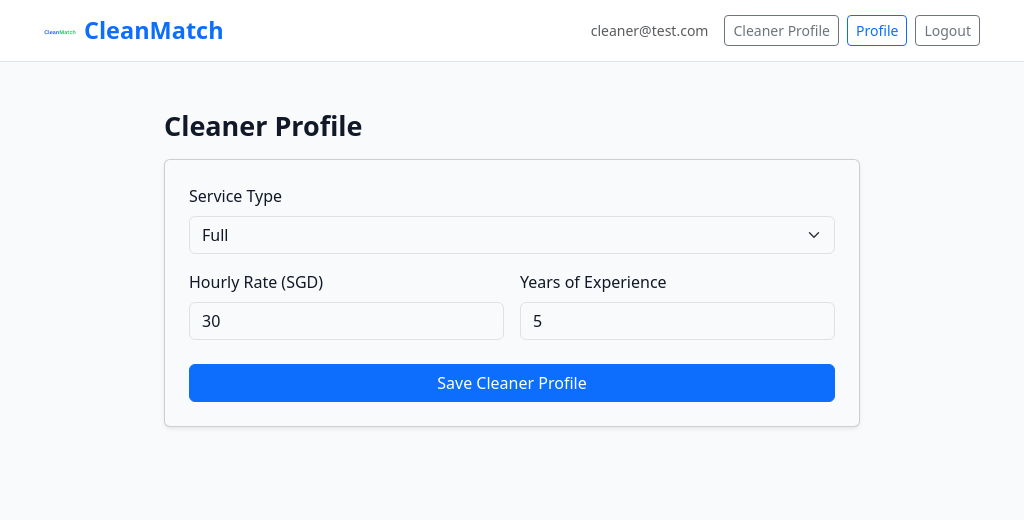
Test case: CleanerProfilePage › shows success message after update
Click the button "Save Cleaner Profile" at (512, 382), box [189,364,835,402]
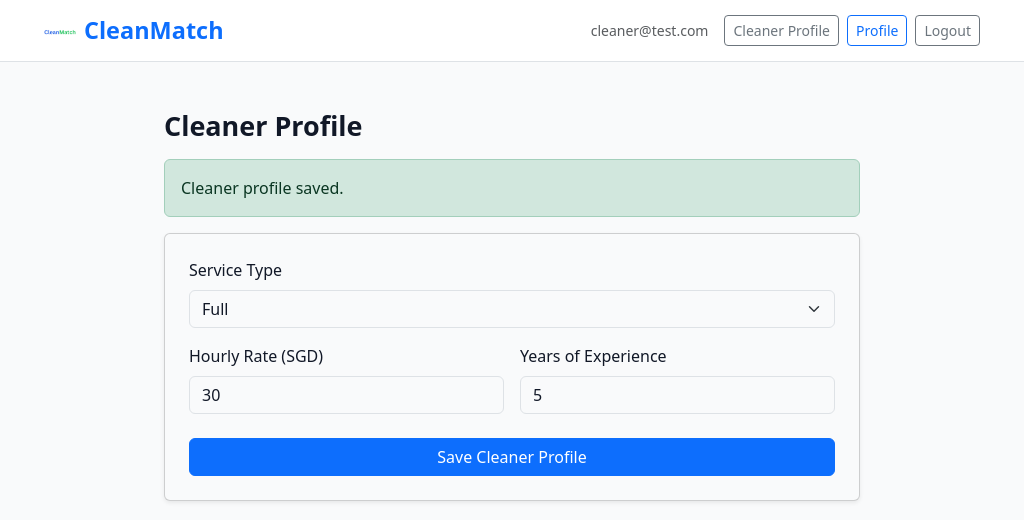
Expected: the text "Cleaner profile saved." is shown, [164,158,860,216]
